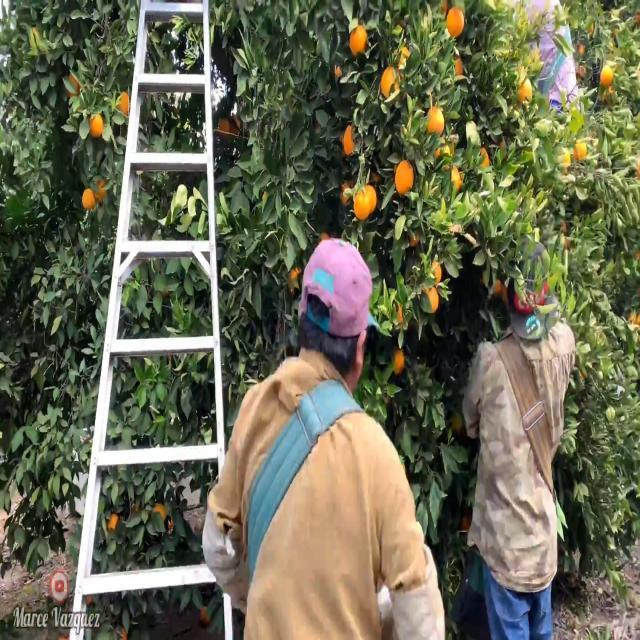Jeruk Sudah Matang: (354, 182, 378, 228), (346, 23, 374, 58), (422, 102, 448, 138), (419, 276, 442, 314), (379, 62, 400, 103), (395, 158, 415, 198), (446, 8, 468, 42), (343, 124, 363, 158), (114, 86, 130, 120), (574, 138, 590, 165), (599, 65, 615, 90), (80, 186, 95, 212), (390, 350, 404, 376), (89, 114, 105, 136)
